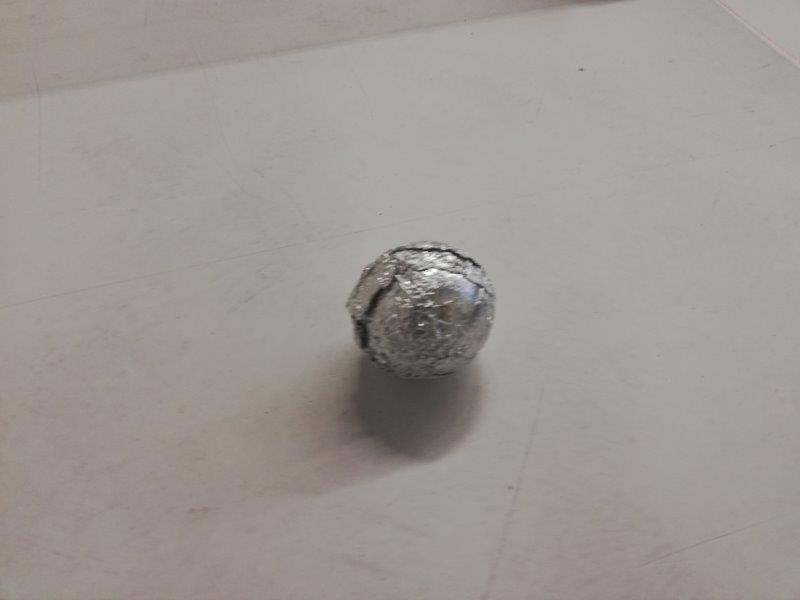bianca: (346, 240, 495, 381)
